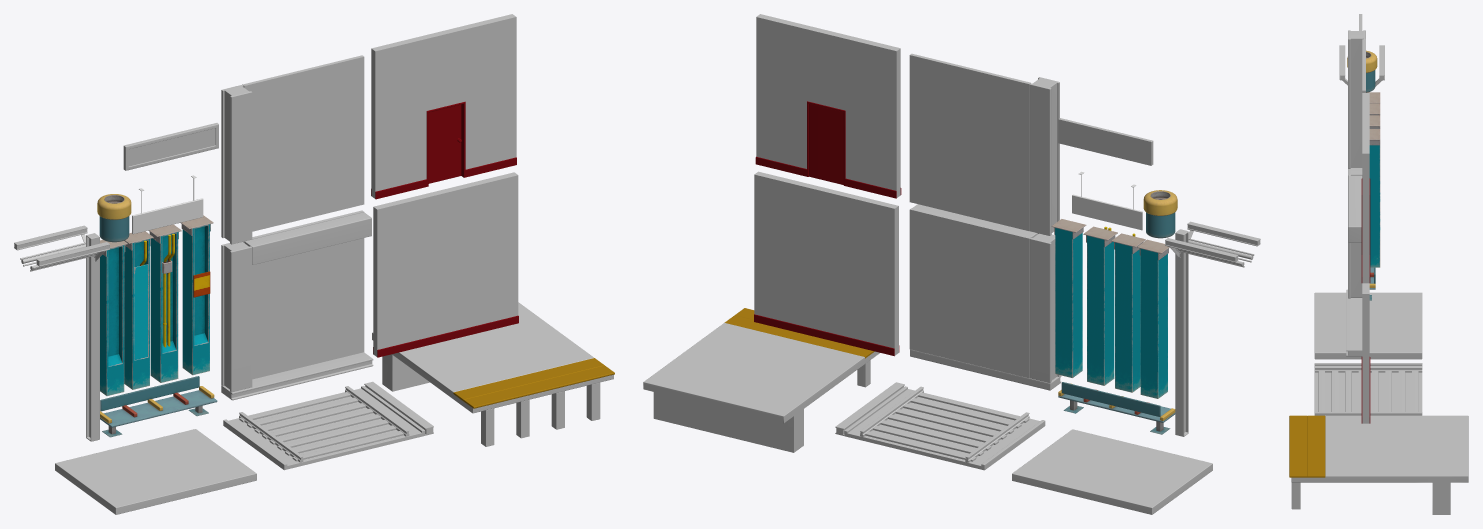
Rendered from TrainStationProps.fbx.
3 views of the same model, side by side, from view 1: azimuth 30°, elevation 25°; view 2: azimuth 150°, elevation 25°; view 3: azimuth 270°, elevation 25° (orthographic). The views are drawn at different scales.
Visible parts, largest first — view 1: SM_StationPillarWall_4M.mo, SM_StationWall_4M.mo, SM_StationWall_Door_4M.mo, SM_StationPillarWall_B_4M.mo, SM_StationFloor_4M.mo, SM_Track_3M.mo, SM_Track_Plain_3M.mo, SM_TrackPillar.mo, SM_StationPillar_B.mo, SM_StationPillar_D.mo, SM_StationPillar_C.mo, SM_StationPillar_A.mo (+4 smaller); view 2: SM_StationPillarWall_4M.mo, SM_StationPillarWall_B_4M.mo, SM_StationWall_4M.mo, SM_StationWall_Door_4M.mo, SM_StationFloor_4M.mo, SM_Track_3M.mo, SM_Track_Plain_3M.mo, SM_TrackPillar.mo, SM_StationPillar_B.mo, SM_StationPillar_D.mo, SM_StationPillar_A.mo, SM_StationPillar_C.mo (+4 smaller); view 3: SM_StationFloor_4M.mo, SM_Track_Plain_3M.mo, SM_Track_3M.mo, SM_StationPillarWall_4M.mo, SM_StationPillarWall_B_4M.mo, SM_StationWall_Door_4M.mo, SM_StationPillar_D.mo, SM_StationWall_4M.mo, SM_TrackPillar.mo, SM_StationTrashcan.mo.
Boxes of the visible parts, x1,y1,x2,y2 form: SM_StationPillarWall_4M.mo: (221, 210, 373, 400); SM_StationWall_4M.mo: (373, 172, 518, 357); SM_StationWall_Door_4M.mo: (371, 14, 516, 199); SM_StationPillarWall_B_4M.mo: (221, 55, 364, 244); SM_StationFloor_4M.mo: (372, 302, 614, 446); SM_Track_3M.mo: (223, 381, 433, 470); SM_Track_Plain_3M.mo: (55, 429, 256, 514); SM_TrackPillar.mo: (14, 225, 109, 441); SM_StationPillar_B.mo: (148, 224, 181, 382); SM_StationPillar_D.mo: (180, 215, 213, 375); SM_StationPillar_C.mo: (124, 231, 153, 389); SM_StationPillar_A.mo: (100, 240, 127, 395); SM_StationPillarWall_4M.mo: (909, 204, 1061, 390); SM_StationPillarWall_B_4M.mo: (909, 53, 1059, 235); SM_StationWall_4M.mo: (754, 171, 899, 356); SM_StationWall_Door_4M.mo: (755, 14, 901, 198); SM_StationFloor_4M.mo: (643, 308, 879, 452); SM_Track_3M.mo: (835, 382, 1045, 470); SM_Track_Plain_3M.mo: (1012, 429, 1212, 514); SM_TrackPillar.mo: (1165, 221, 1260, 436); SM_StationPillar_B.mo: (1083, 226, 1117, 385); SM_StationPillar_D.mo: (1051, 219, 1086, 377); SM_StationPillar_A.mo: (1137, 239, 1169, 398); SM_StationPillar_C.mo: (1111, 233, 1145, 392); SM_StationFloor_4M.mo: (1289, 415, 1468, 514); SM_Track_Plain_3M.mo: (1314, 292, 1422, 359); SM_Track_3M.mo: (1314, 363, 1422, 415); SM_StationPillarWall_4M.mo: (1346, 168, 1362, 356); SM_StationPillarWall_B_4M.mo: (1348, 30, 1365, 168); SM_StationWall_Door_4M.mo: (1361, 93, 1370, 283); SM_StationPillar_D.mo: (1369, 129, 1380, 267); SM_StationWall_4M.mo: (1361, 283, 1370, 423); SM_TrackPillar.mo: (1339, 45, 1384, 92); SM_StationTrashcan.mo: (1347, 50, 1377, 92).
Size of the model in its own units: 1549 by 1039 by 500.
